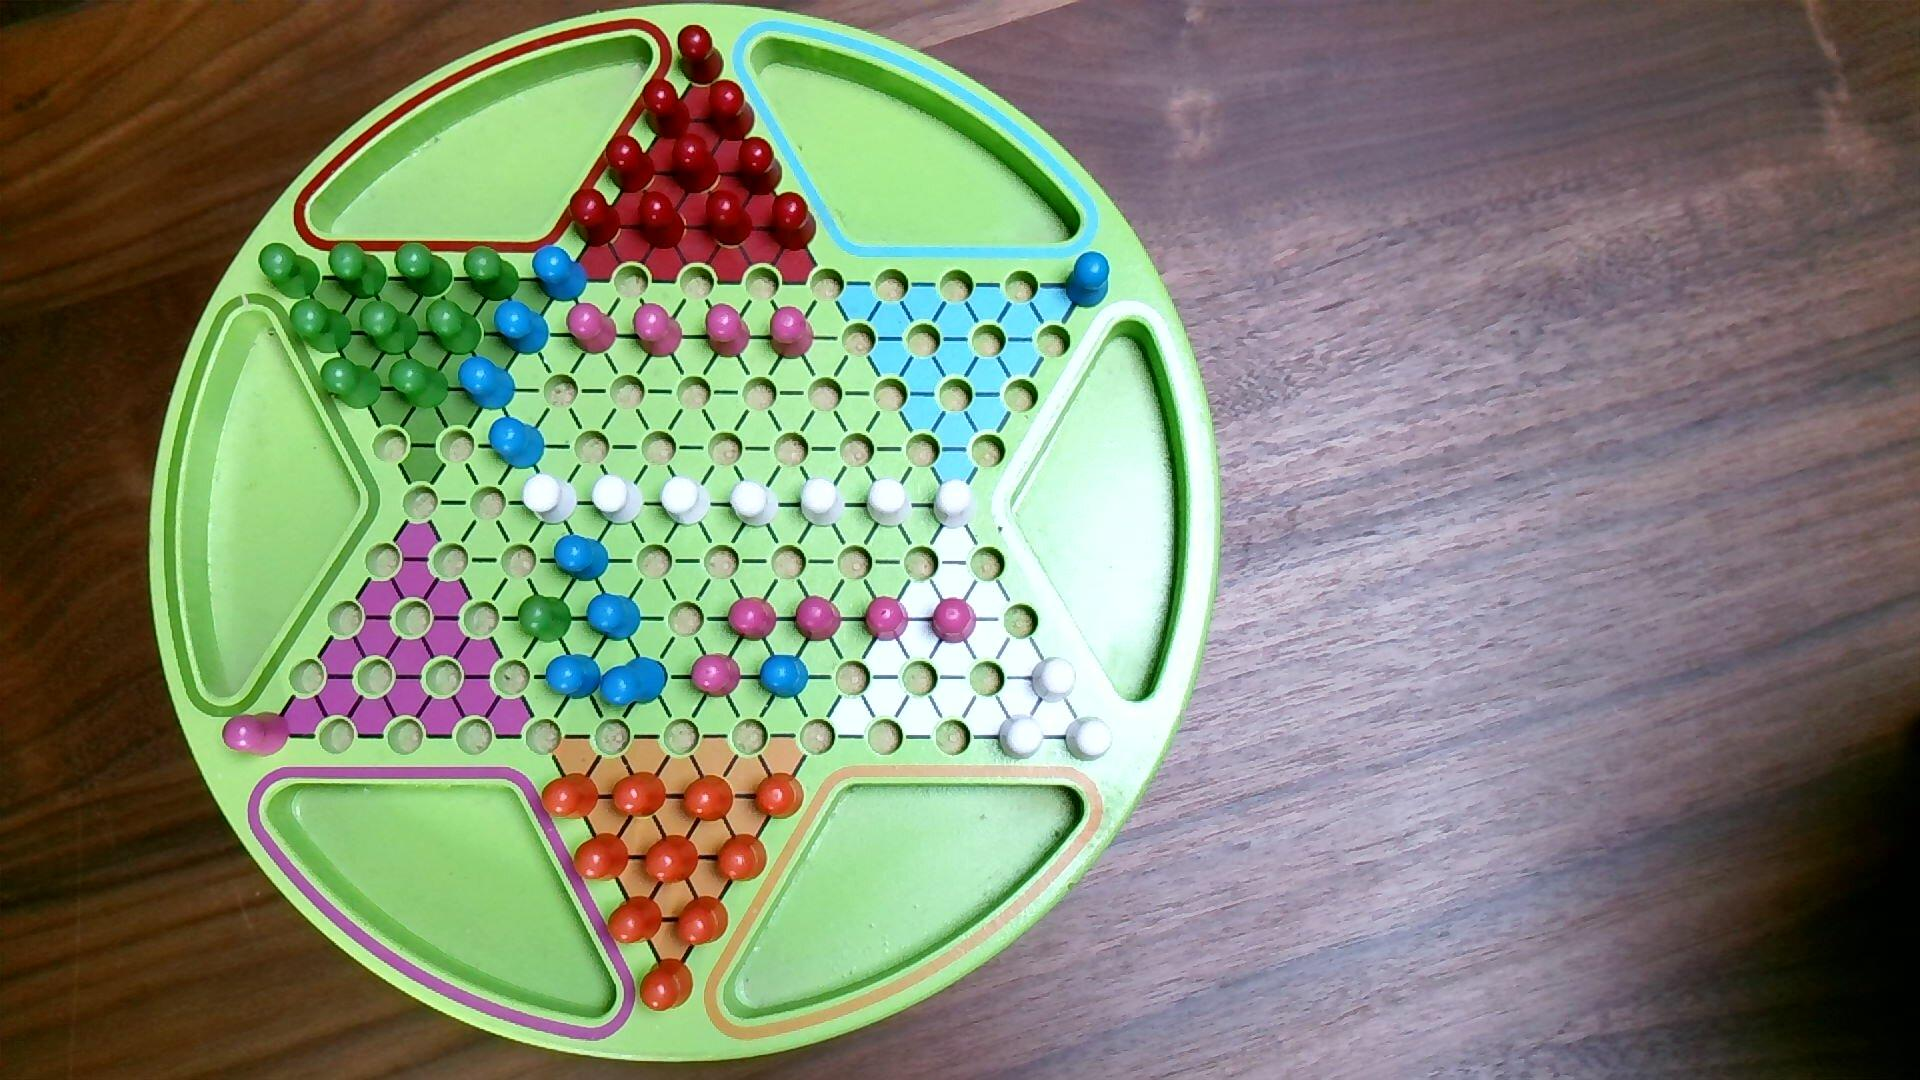B: (597, 655, 670, 709), (531, 244, 589, 305), (493, 298, 551, 357), (458, 355, 517, 411), (489, 415, 547, 472), (585, 592, 644, 644), (553, 534, 611, 584), (545, 653, 604, 702), (1064, 251, 1112, 310), (758, 654, 810, 700)
G: (258, 241, 323, 301), (328, 240, 389, 302), (289, 297, 353, 355), (396, 240, 456, 301), (359, 299, 422, 357), (318, 356, 384, 411), (426, 299, 487, 357), (388, 357, 451, 411), (463, 247, 522, 303), (517, 591, 575, 646)
O: (638, 957, 696, 1014), (642, 833, 702, 887), (541, 771, 601, 824), (674, 894, 731, 949), (605, 895, 665, 947), (574, 832, 632, 884), (611, 770, 669, 822), (715, 832, 769, 885), (680, 774, 736, 824), (753, 771, 806, 822)
R: (670, 131, 723, 196), (568, 187, 622, 249), (604, 133, 657, 195), (641, 76, 692, 140), (676, 22, 727, 87), (703, 189, 756, 249), (637, 189, 687, 252), (707, 79, 757, 142), (770, 190, 819, 255), (737, 135, 785, 198)
R2: (222, 709, 291, 760), (632, 302, 684, 359), (566, 302, 618, 356), (767, 305, 816, 363), (705, 302, 753, 360), (727, 595, 779, 644), (793, 593, 843, 644), (862, 593, 911, 644), (931, 596, 978, 647), (690, 653, 742, 699)
W: (522, 473, 582, 527), (591, 473, 647, 527), (659, 475, 713, 529), (728, 477, 781, 529), (865, 477, 914, 530), (798, 476, 847, 529), (931, 477, 978, 531), (997, 713, 1047, 764), (1065, 715, 1116, 764), (1030, 655, 1079, 705)
